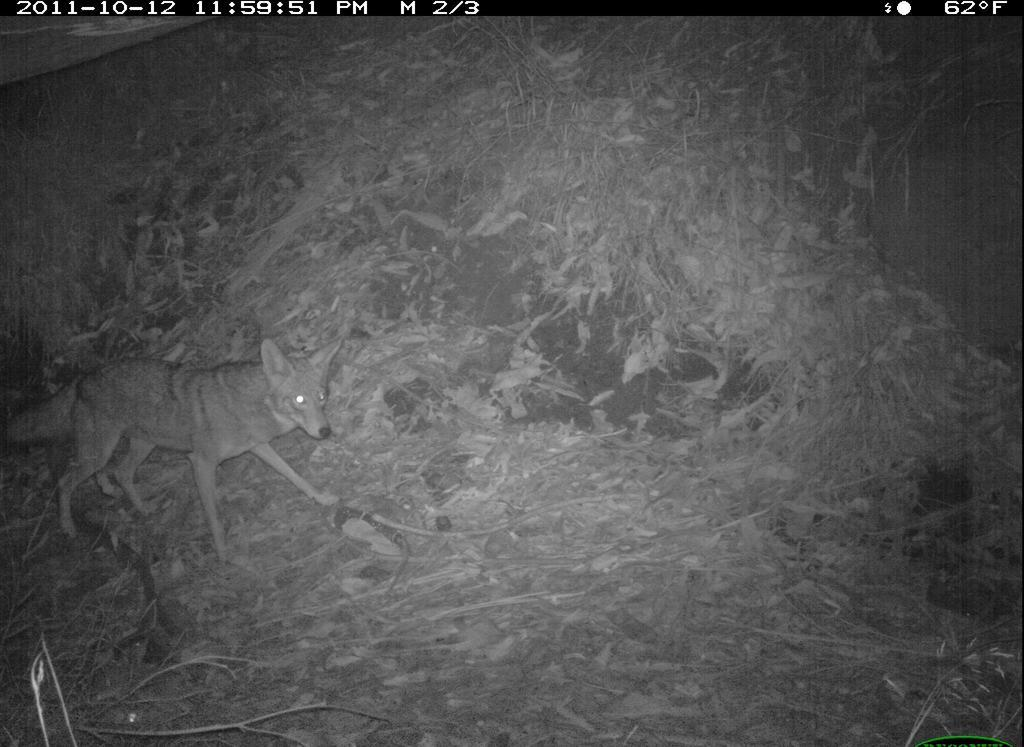coyote: (12, 331, 358, 569)
